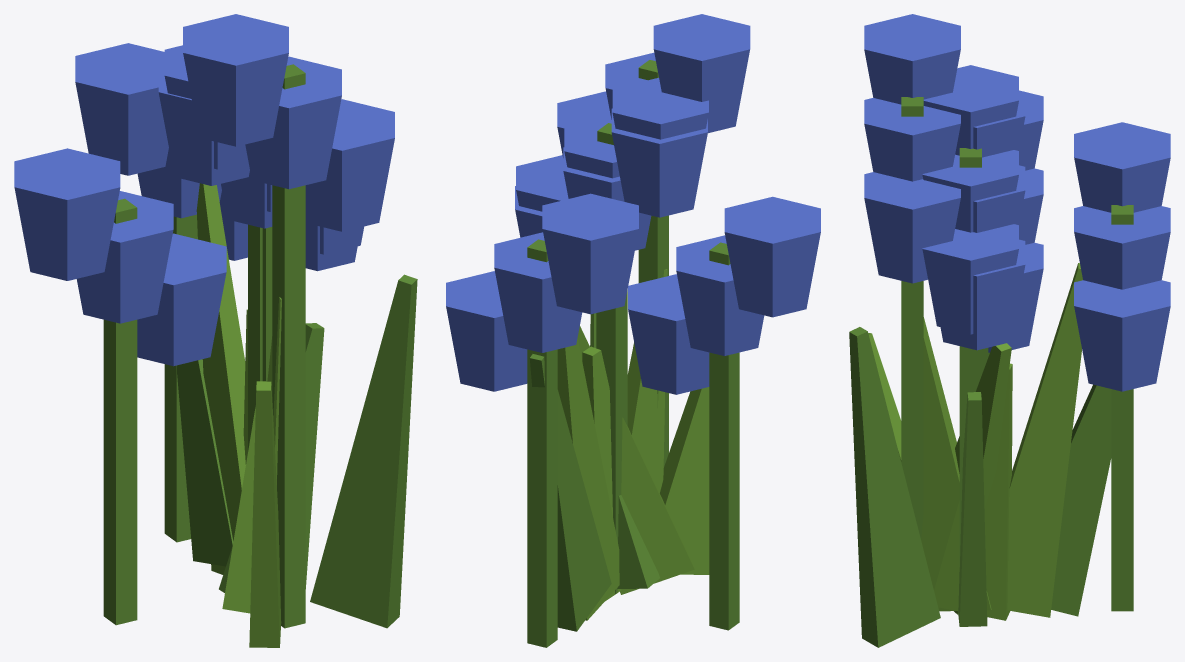
File: Flowers_Bluebell.fbx
The picture shows the model from 3 angles, left to right: view 1: azimuth 30°, elevation 25°; view 2: azimuth 150°, elevation 25°; view 3: azimuth 270°, elevation 25°; orthographic projection. The views are drawn at different scales.
Visible parts, largest first — view 1: Flowers_Bluebell; view 2: Flowers_Bluebell; view 3: Flowers_Bluebell.
Part boxes in pixels (left/top/right/bottom): Flowers_Bluebell: left=14, top=14, right=417, bottom=647; Flowers_Bluebell: left=446, top=14, right=820, bottom=647; Flowers_Bluebell: left=849, top=14, right=1170, bottom=647.
Bounding box in the file's own units: 0.3288 × 0.5405 × 0.2879.
